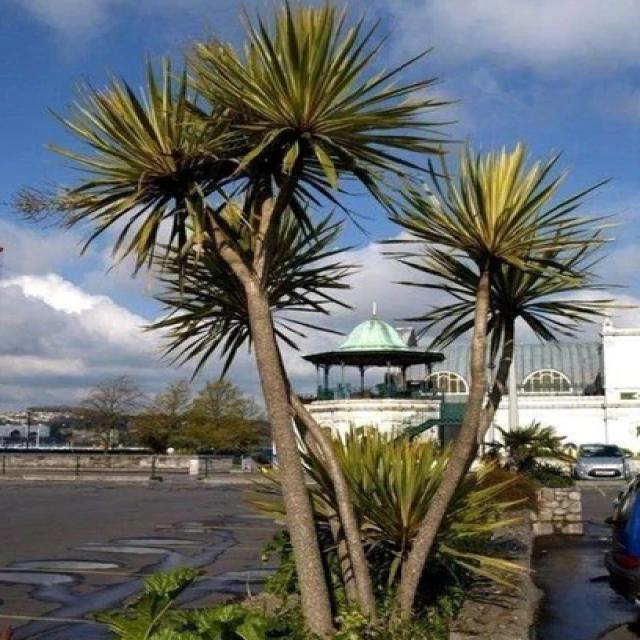Cordyline australis: (85, 22, 589, 640)
